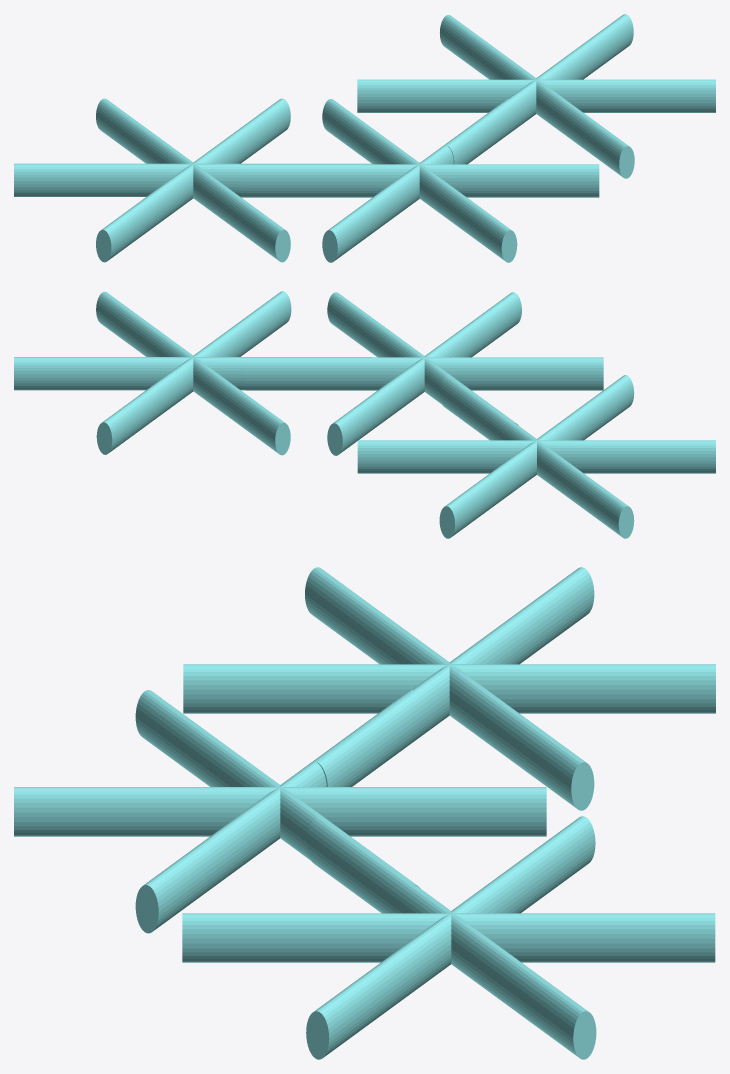
The model's file is Freeze.fbx.
3 views of the same model, one above another, from view 1: azimuth 30°, elevation 25°; view 2: azimuth 150°, elevation 25°; view 3: azimuth 270°, elevation 25° (orthographic). The views are drawn at different scales.
Visible parts, largest first — view 1: Freeze; view 2: Freeze; view 3: Freeze.
Part boxes in pixels (x1,y1,x2,y2): Freeze: (14, 14, 715, 262); Freeze: (14, 291, 715, 538); Freeze: (14, 567, 715, 1059).
Size of the model in its own units: 3.99 by 0.2 by 2.64.
